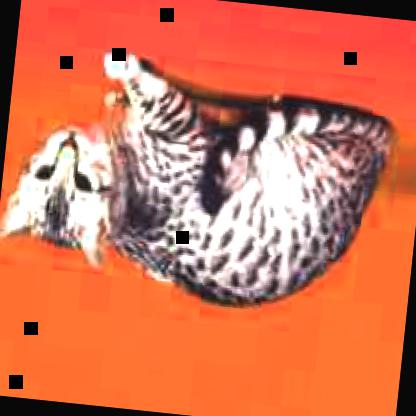cat: (0, 38, 399, 325)
